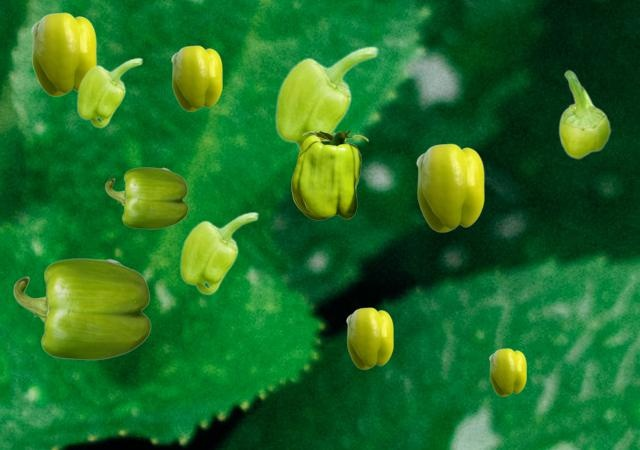bell_pepper: (13, 258, 150, 359), (274, 45, 378, 150), (291, 131, 367, 219), (179, 211, 258, 294), (416, 143, 483, 231), (31, 12, 95, 95), (105, 167, 187, 228), (76, 57, 142, 127), (558, 70, 610, 158), (171, 45, 221, 110), (346, 307, 392, 368), (489, 348, 525, 395)
